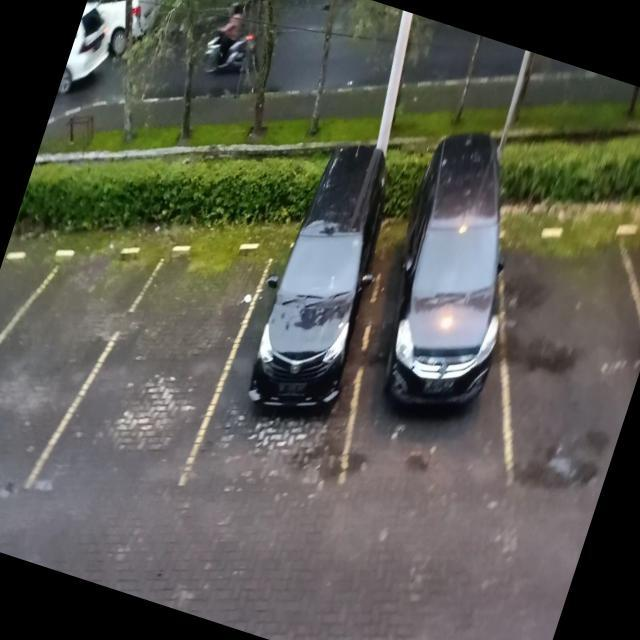empty: (55, 207, 274, 525), (460, 204, 640, 503), (0, 216, 137, 499)
occupied: (322, 178, 544, 508), (184, 190, 400, 524)
